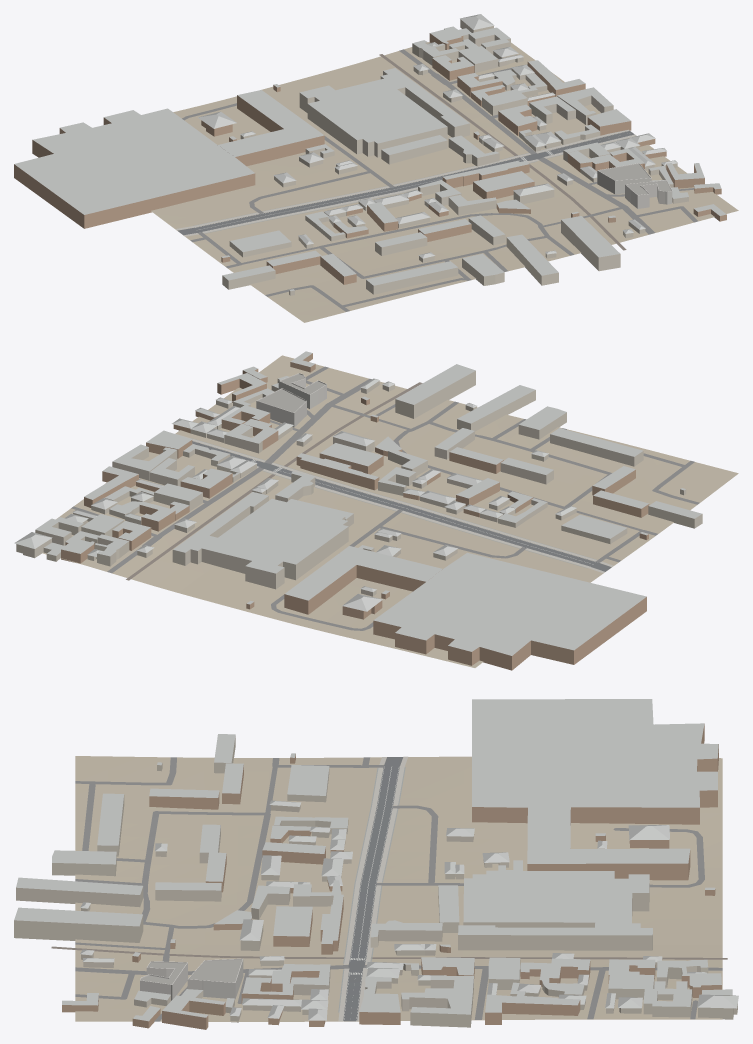
The model's file is bolak_-14_-3.glb.
3 views of the same model, one above another, from view 1: azimuth 30°, elevation 25°; view 2: azimuth 150°, elevation 25°; view 3: azimuth 270°, elevation 25° (orthographic). The views are drawn at different scales.
Visible parts, largest first — view 1: Tom_Shifer, Yer_Tuproq-col, Devor_Suvoq-col, Devor_Gisht-col, Yol_Mahalla-col, Yol_Asfalt-col, Trotuar, Devor_Dokon-col, Temir_Yol, Tom_Tekis, Ariq; view 2: Tom_Shifer, Yer_Tuproq-col, Devor_Suvoq-col, Devor_Gisht-col, Yol_Mahalla-col, Yol_Asfalt-col, Trotuar, Devor_Dokon-col, Temir_Yol, Tom_Tekis, Ariq; view 3: Tom_Shifer, Yer_Tuproq-col, Devor_Suvoq-col, Devor_Gisht-col, Yol_Mahalla-col, Yol_Asfalt-col, Trotuar, Devor_Dokon-col, Tom_Tekis, Temir_Yol, Ariq, Yol_Chiziq.
Boxes of the visible parts, x1,y1,x2,y2 form: Tom_Shifer: [14, 14, 726, 291]; Yer_Tuproq-col: [151, 42, 738, 322]; Devor_Suvoq-col: [222, 19, 688, 295]; Devor_Gisht-col: [14, 33, 726, 284]; Yol_Mahalla-col: [182, 49, 697, 311]; Yol_Asfalt-col: [177, 130, 634, 235]; Trotuar: [175, 129, 636, 236]; Devor_Dokon-col: [597, 163, 672, 208]; Temir_Yol: [379, 54, 626, 250]; Tom_Tekis: [599, 164, 671, 194]; Ariq: [193, 141, 614, 233]; Tom_Shifer: [14, 351, 702, 655]; Yer_Tuproq-col: [42, 355, 738, 667]; Devor_Suvoq-col: [16, 371, 702, 596]; Devor_Gisht-col: [61, 353, 649, 670]; Yol_Mahalla-col: [71, 366, 699, 630]; Yol_Asfalt-col: [192, 441, 611, 571]; Trotuar: [175, 433, 613, 573]; Devor_Dokon-col: [256, 373, 326, 427]; Temir_Yol: [126, 382, 422, 580]; Tom_Tekis: [258, 374, 325, 412]; Ariq: [190, 438, 596, 568]; Tom_Shifer: [14, 699, 738, 1021]; Yer_Tuproq-col: [75, 756, 722, 1021]; Devor_Suvoq-col: [14, 736, 737, 1027]; Devor_Gisht-col: [62, 724, 721, 1029]; Yol_Mahalla-col: [75, 757, 722, 1021]; Yol_Asfalt-col: [343, 757, 403, 1021]; Trotuar: [338, 756, 407, 1021]; Devor_Dokon-col: [140, 958, 243, 1000]; Tom_Tekis: [141, 960, 242, 984]; Temir_Yol: [51, 946, 727, 959]; Ariq: [338, 767, 405, 1012]; Yol_Chiziq: [343, 766, 398, 1021].
Size of what is drawn, in the model's own units: 471 by 19.55 by 448.
